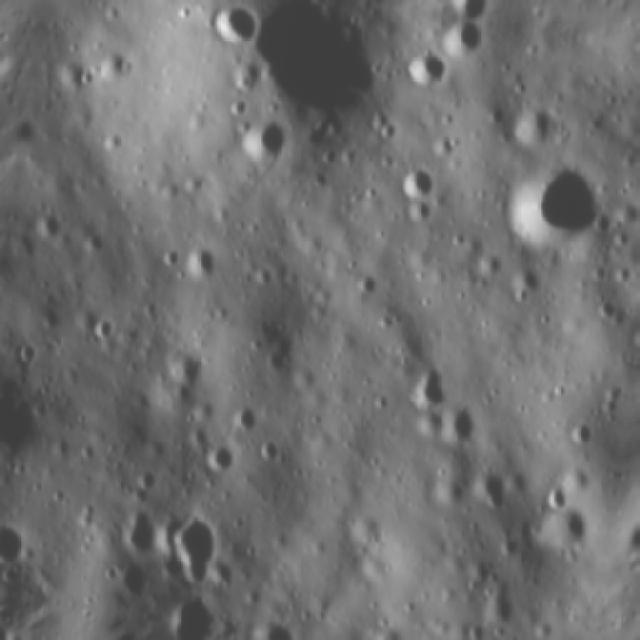crater: (238, 0, 394, 125), (499, 150, 616, 258), (0, 373, 48, 467), (167, 509, 231, 576), (236, 114, 301, 172), (115, 499, 171, 555), (408, 43, 459, 97), (511, 92, 562, 145), (550, 502, 598, 558), (208, 0, 266, 46), (479, 582, 528, 633), (409, 360, 457, 412), (91, 45, 144, 92), (506, 256, 554, 307), (438, 400, 484, 451), (444, 16, 494, 62), (472, 462, 516, 510), (397, 160, 445, 203), (200, 432, 242, 479), (51, 53, 98, 95), (470, 240, 512, 283), (370, 105, 408, 150), (0, 514, 34, 564), (182, 238, 221, 280), (229, 395, 268, 436), (84, 306, 121, 349), (32, 206, 70, 246), (566, 414, 605, 452), (544, 478, 574, 517), (258, 429, 287, 463)
